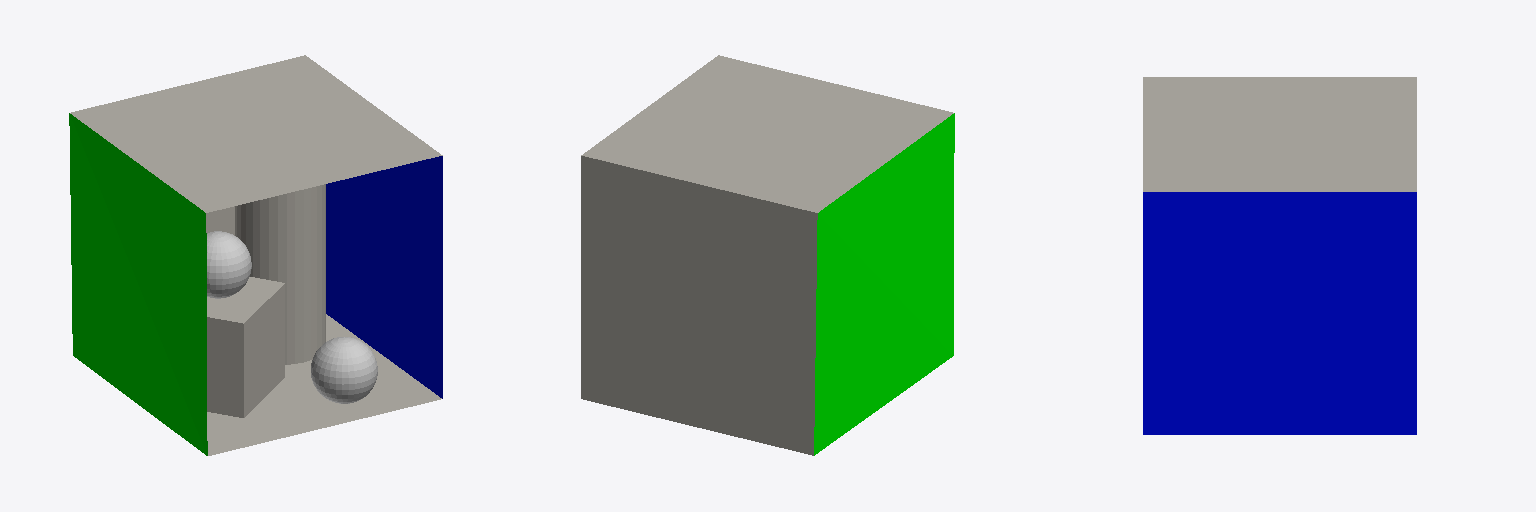
Rendered from CornellBox2.obj.
The picture shows the model from 3 angles: view 1: azimuth 30°, elevation 25°; view 2: azimuth 150°, elevation 25°; view 3: azimuth 270°, elevation 25°; orthographic projection.
Parts seen in each view (by area): view 1: CornellBoxMarcel.006_leftWall, CornellBoxMarcel.003_ceiling, CornellBoxMarcel.005_rightWall, Cylinder_floor, CornellBoxMarcel.002_floor, Cube_floor, Sphere.001_Glass, Sphere_Metal, CornellBoxMarcel.004_backWall; view 2: CornellBoxMarcel.004_backWall, CornellBoxMarcel.006_leftWall, CornellBoxMarcel.003_ceiling; view 3: CornellBoxMarcel.005_rightWall, CornellBoxMarcel.003_ceiling.
Part boxes in pixels (x1,y1,x2,y2): CornellBoxMarcel.006_leftWall: (69,113,207,455); CornellBoxMarcel.003_ceiling: (70,55,442,212); CornellBoxMarcel.005_rightWall: (326,156,442,398); Cylinder_floor: (235,184,325,364); CornellBoxMarcel.002_floor: (207,314,441,455); Cube_floor: (207,277,284,417); Sphere.001_Glass: (311,337,377,403); Sphere_Metal: (207,231,251,298); CornellBoxMarcel.004_backWall: (206,206,234,235); CornellBoxMarcel.004_backWall: (581,156,817,455); CornellBoxMarcel.006_leftWall: (814,113,954,455); CornellBoxMarcel.003_ceiling: (581,55,953,212); CornellBoxMarcel.005_rightWall: (1143,192,1416,434); CornellBoxMarcel.003_ceiling: (1143,77,1416,191).
Bounding box in the file's own units: 2.02 × 1.99 × 2.03.